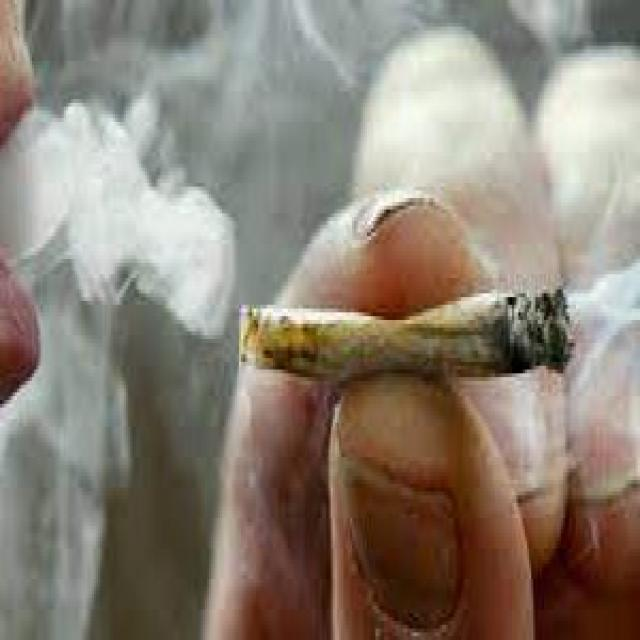cigarette: (231, 274, 578, 385)
